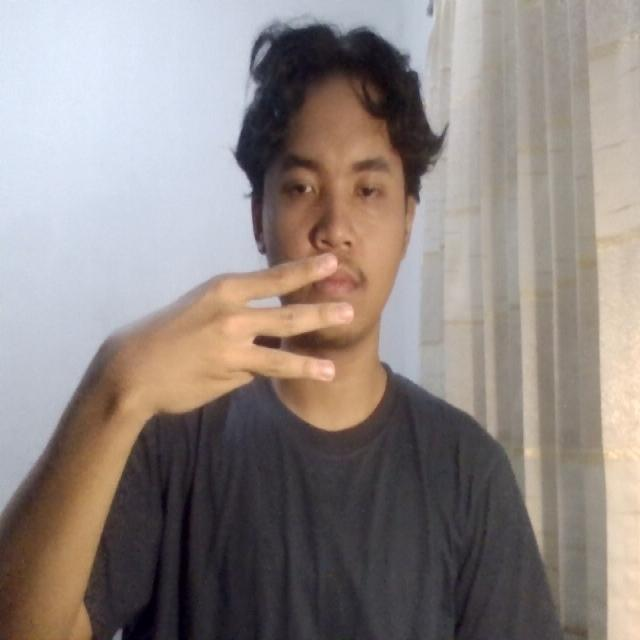E: (133, 243, 366, 425)
